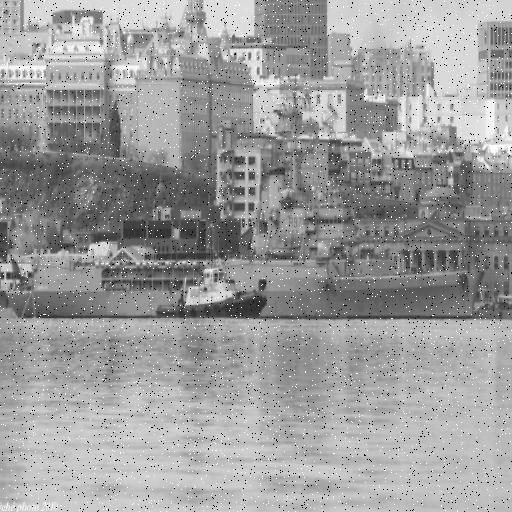Portanaves: (1, 66, 504, 323)
